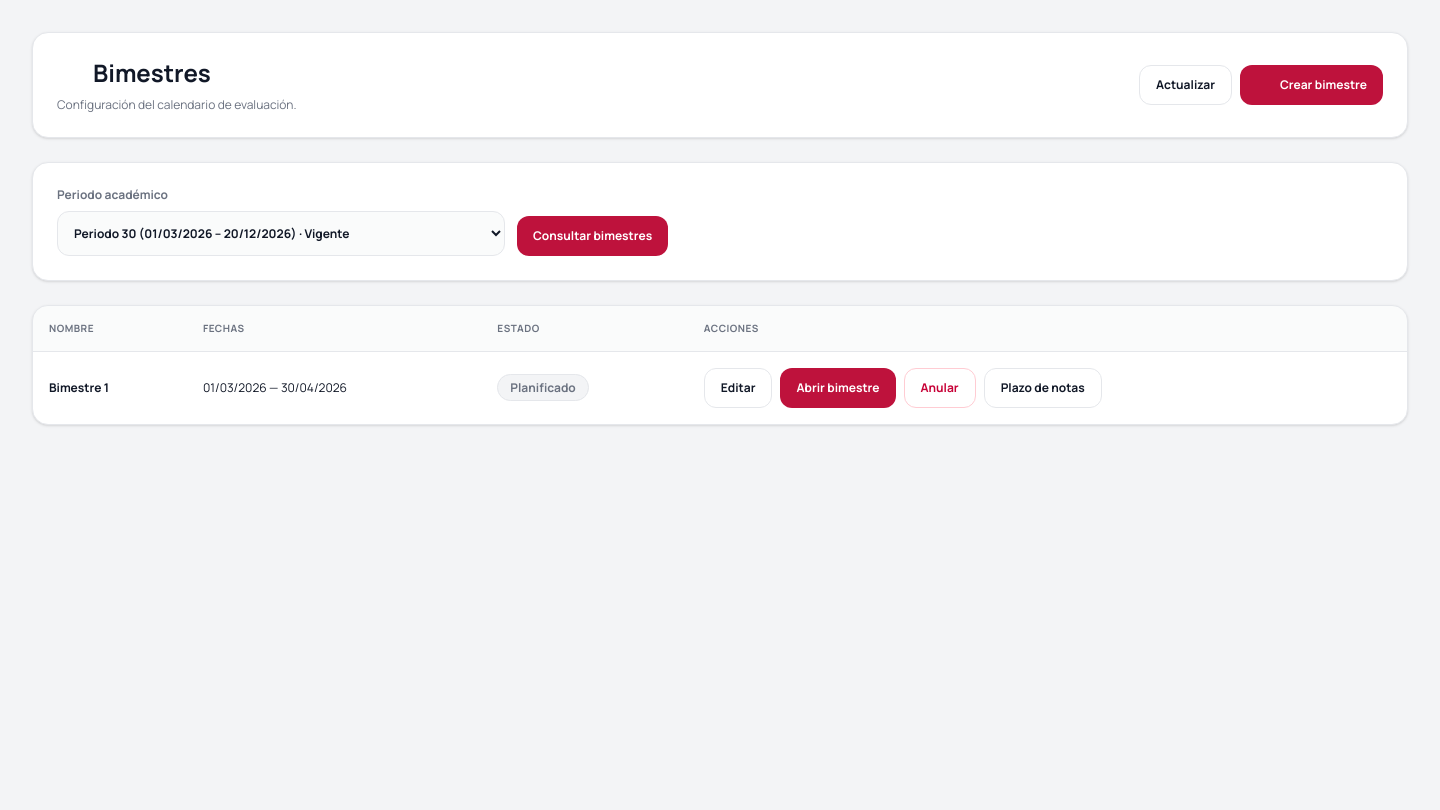
Test case: a POST without response is uncertain: reloads, warns and does not retry
Click the button "Anular" at x=940, y=388, box x1=904 y1=368 x2=976 y2=408
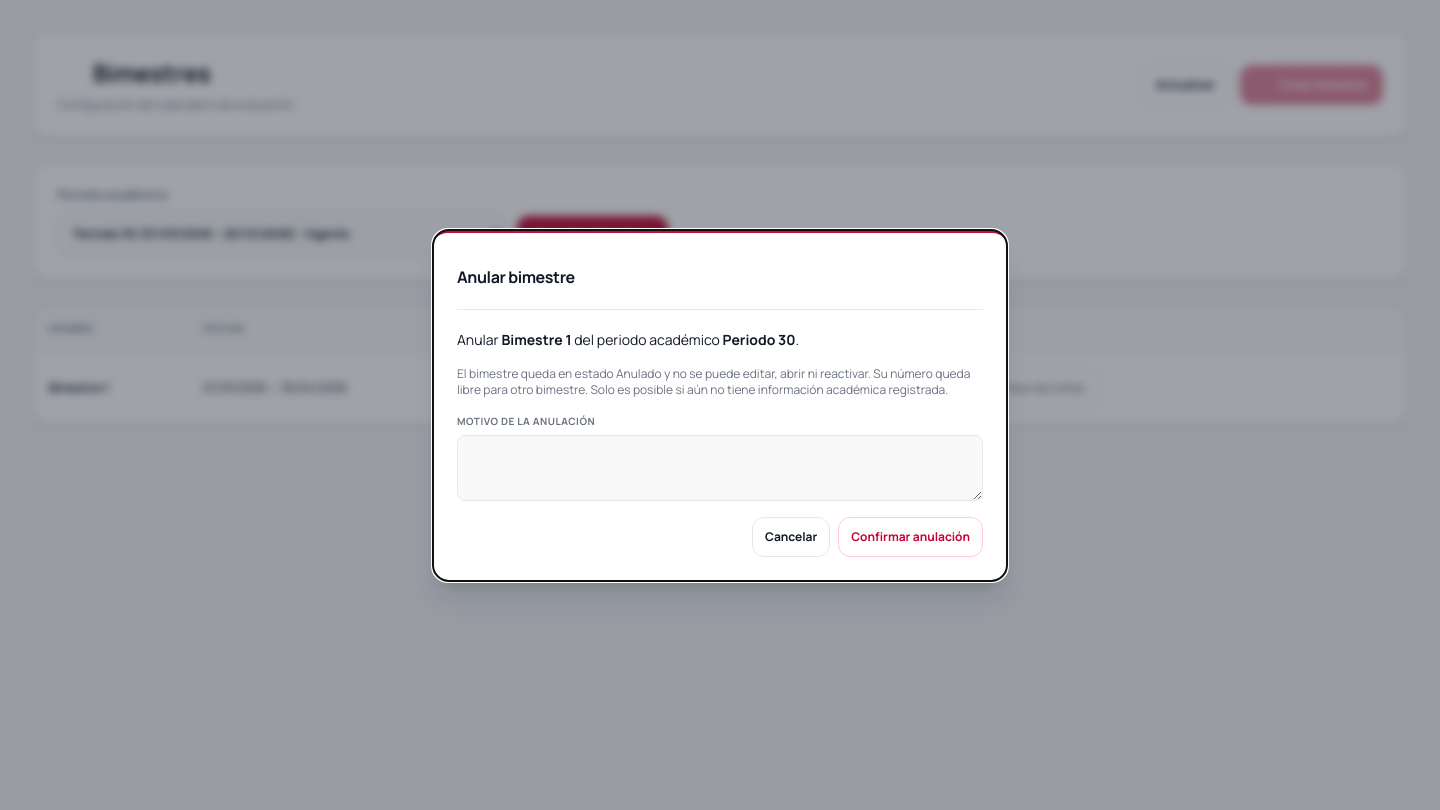
Type "Motivo" into the text box labelled "Motivo de la anulación" at x=720, y=468, box x1=457 y1=434 x2=983 y2=500
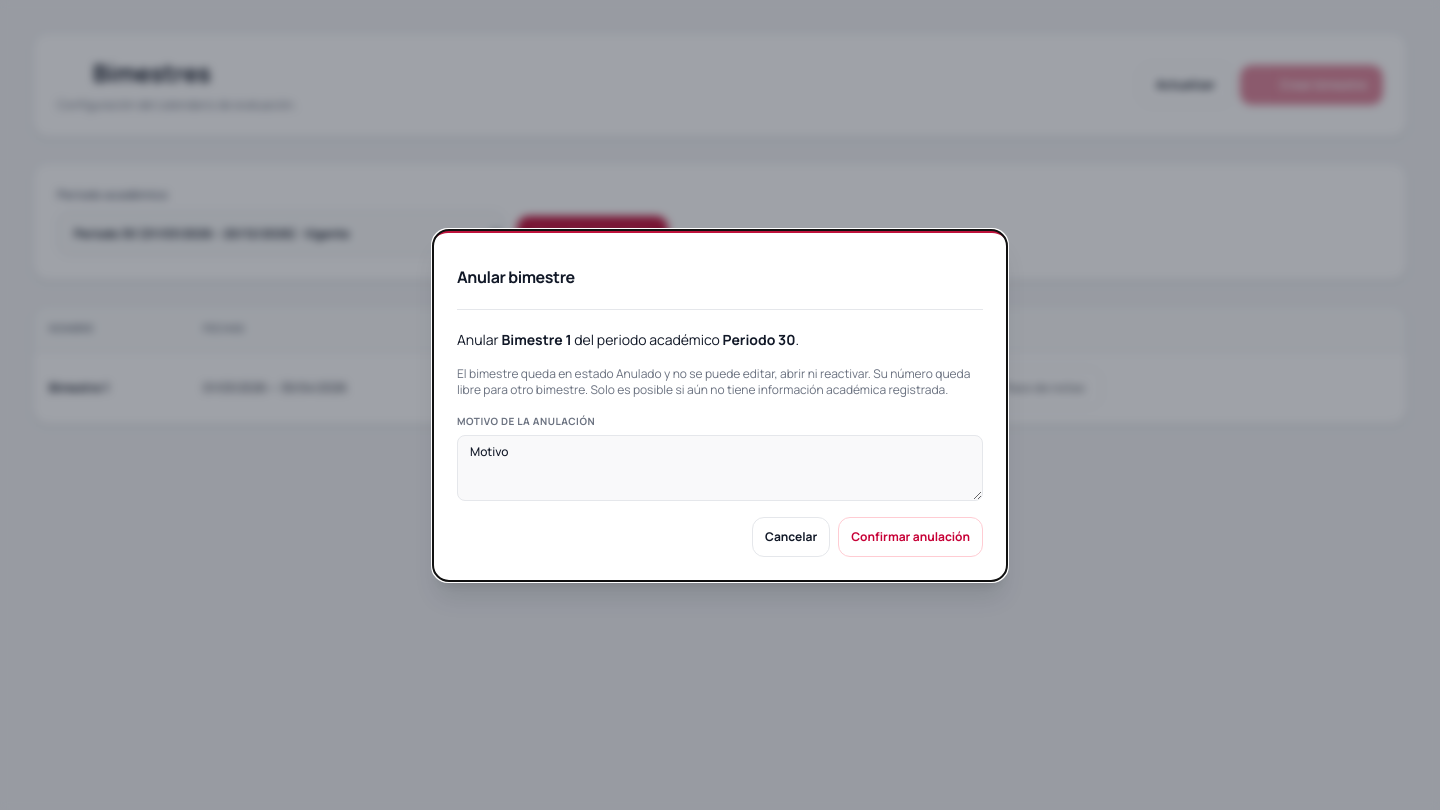
Submit the form, box x1=457 y1=330 x2=983 y2=556
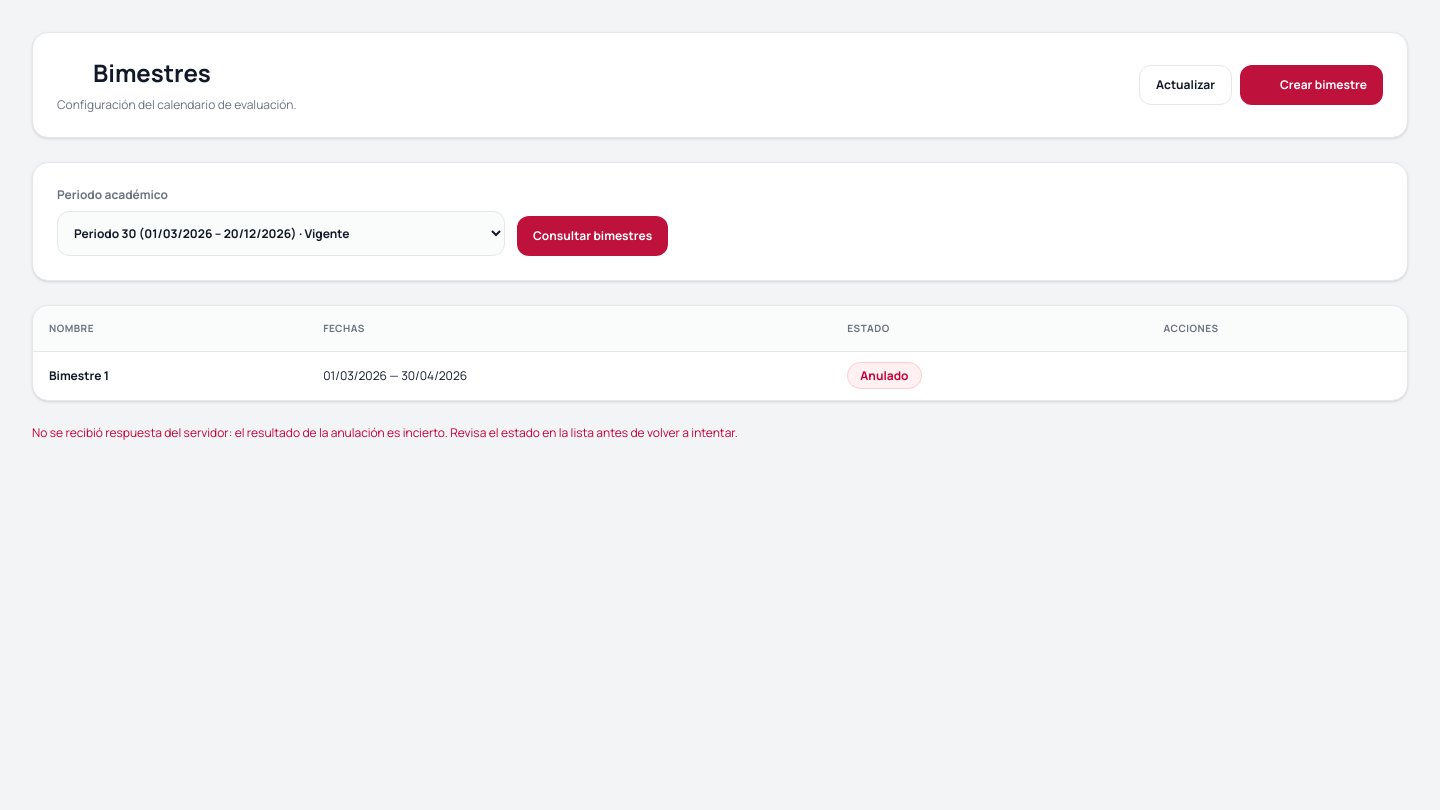
expect the text "resultado de la anulación es incierto" is shown: met, box x1=32 y1=424 x2=738 y2=441
